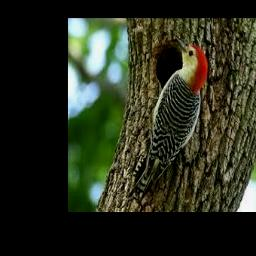Woodpecker: (126, 37, 208, 207)
